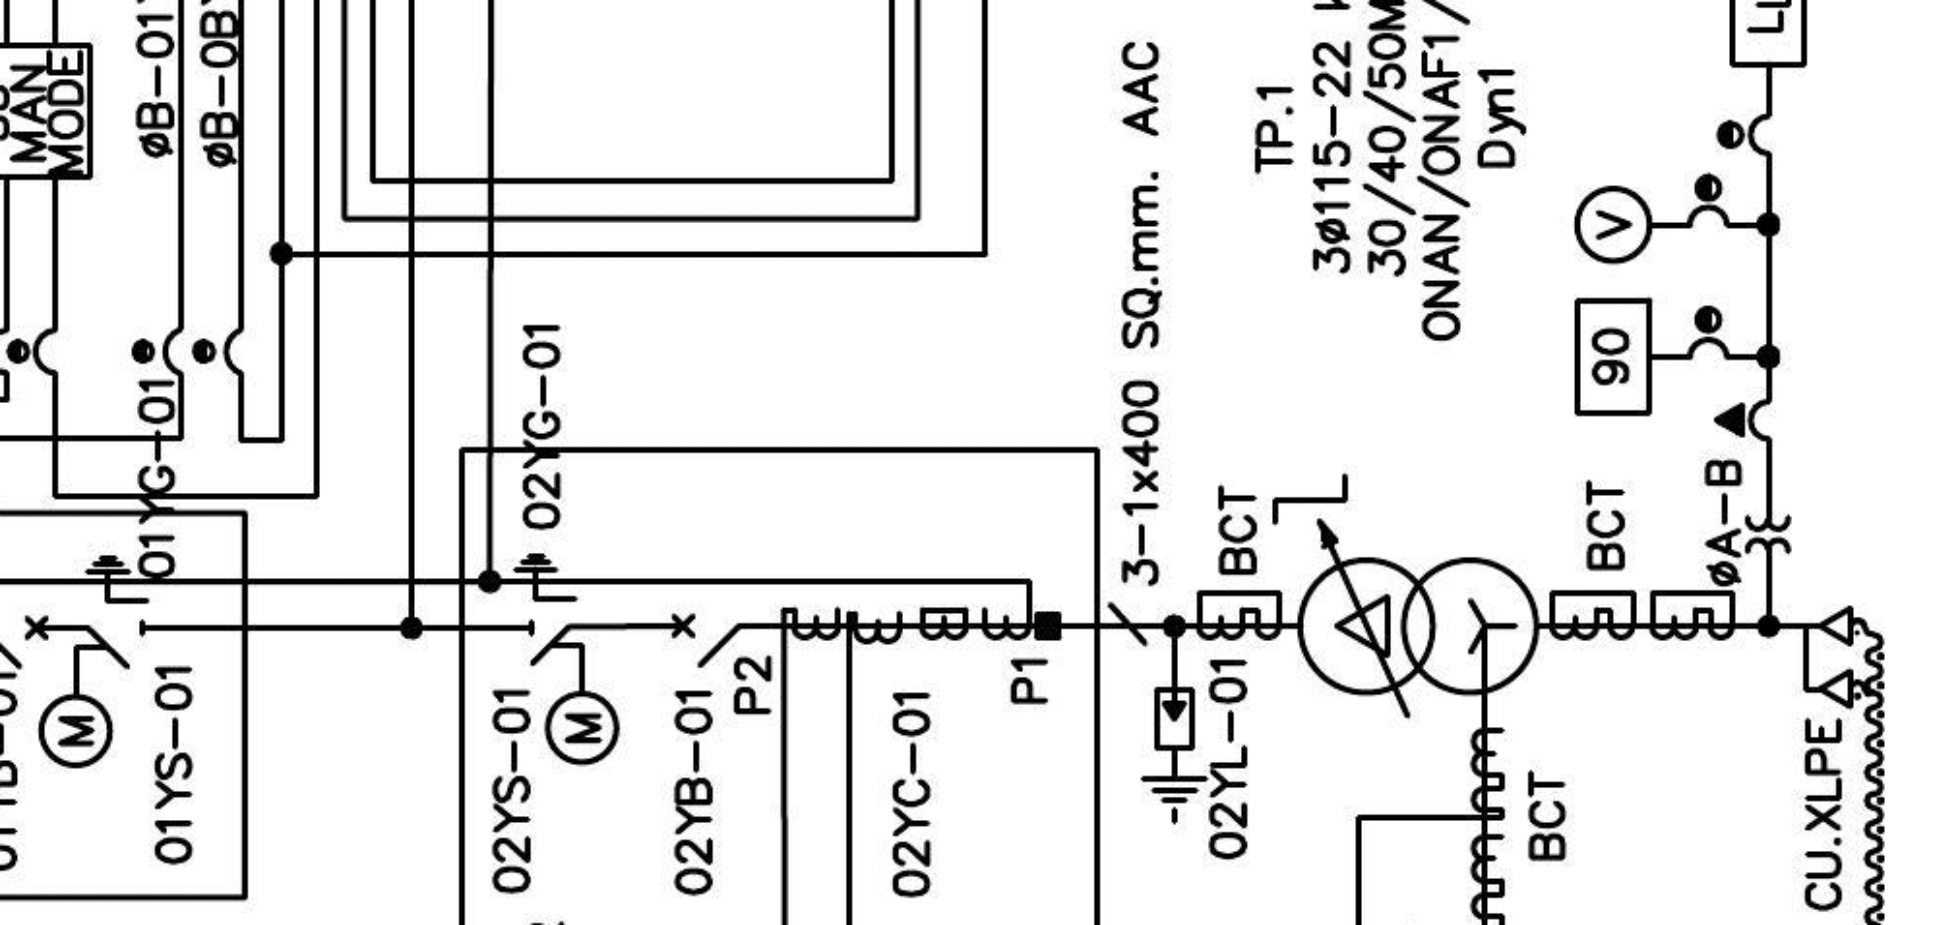11522_tx_dyn1: (1296, 555, 1541, 697)
115_3ways_ds_w_motor: (37, 553, 151, 770), (511, 551, 622, 768)
115_breaker: (670, 612, 742, 670)
115_la: (1139, 685, 1211, 827)
terminator_double: (1802, 605, 1854, 709)
v_m: (1572, 184, 1654, 267)
